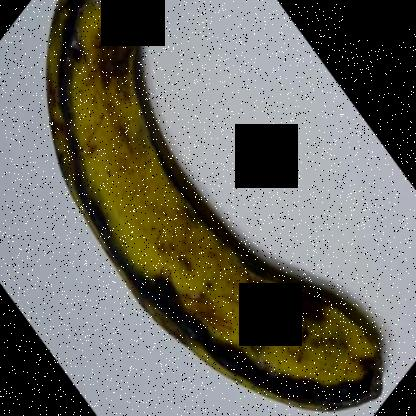overripe: (17, 0, 397, 415)
